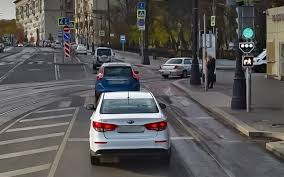tl: (234, 6, 256, 39)
